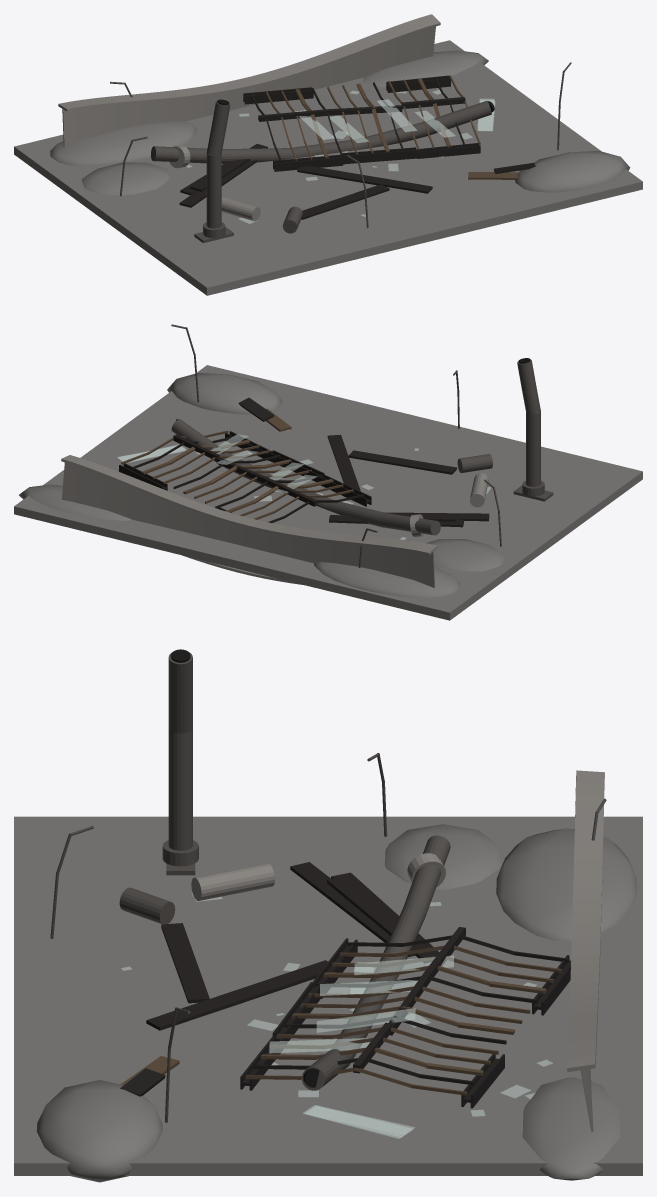
The model's file is sy36-ruin-fragment-bay.glb.
The picture shows the model from 3 angles, top to bottom: view 1: azimuth 30°, elevation 25°; view 2: azimuth 150°, elevation 25°; view 3: azimuth 270°, elevation 25°; orthographic projection. The views are drawn at different scales.
Visible parts, largest first — view 1: Slab, FallenGirder, FallenColumn, AshMound1, AshMound2, AshMound4, AshMound3, StumpShaftLow, Board3, StumpShaftUpper, Board5, ColumnChunk1 (+11 smaller); view 2: Slab, FallenGirder, AshMound2, AshMound1, FallenColumn, AshMound4, AshMound3, StumpShaftLow, Board5, StumpShaftUpper, Board3, ColumnChunk2 (+1 smaller); view 3: Slab, AshMound1, AshMound2, FallenGirder, AshMound3, FallenColumn, AshMound4, StumpShaftLow, Board3, ColumnChunk1, StumpShaftUpper, Board5 (+9 smaller).
Part boxes in pixels (box(x1,y1,x2,y2)): Slab: box(14, 40, 642, 295); FallenGirder: box(58, 14, 440, 147); FallenColumn: box(151, 101, 491, 163); AshMound1: box(50, 120, 197, 166); AshMound2: box(515, 151, 630, 192); AshMound4: box(81, 162, 169, 195); AshMound3: box(363, 50, 488, 86); StumpShaftLow: box(206, 154, 221, 228); Board3: box(297, 166, 432, 193); StumpShaftUpper: box(206, 101, 230, 161); Board5: box(301, 184, 389, 219); ColumnChunk1: box(221, 196, 260, 221); Slab: box(14, 365, 642, 620); FallenGirder: box(61, 455, 437, 587); AshMound2: box(167, 373, 282, 414); AshMound1: box(314, 562, 460, 597); FallenColumn: box(171, 419, 440, 535); AshMound4: box(426, 539, 504, 571); AshMound3: box(19, 484, 131, 520); StumpShaftLow: box(526, 413, 540, 486); Board5: box(348, 450, 456, 474); StumpShaftUpper: box(517, 359, 540, 419); Board3: box(327, 434, 360, 491); ColumnChunk2: box(457, 454, 492, 472); Slab: box(14, 816, 642, 1175); AshMound1: box(496, 828, 637, 940); AshMound2: box(36, 1080, 162, 1182); FallenGirder: box(566, 770, 604, 1131); AshMound3: box(522, 1077, 620, 1180); FallenColumn: box(301, 835, 450, 1090); AshMound4: box(385, 824, 500, 889); StumpShaftLow: box(168, 729, 192, 850); Board3: box(146, 960, 327, 1030); ColumnChunk1: box(191, 863, 274, 900); StumpShaftUpper: box(168, 652, 192, 740); Board5: box(161, 923, 209, 1003).
Size of the model in its own units: 8.84 by 2.96 by 6.6.
